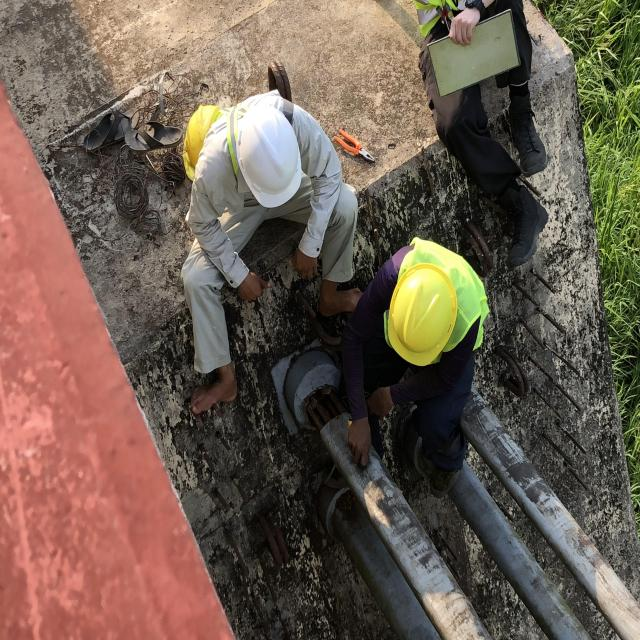corrosion: (305, 386, 346, 432)
